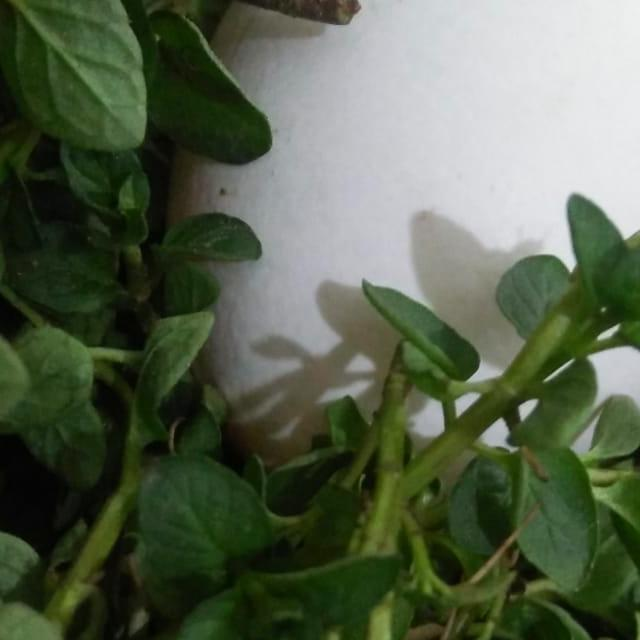egg: (157, 0, 640, 492)
